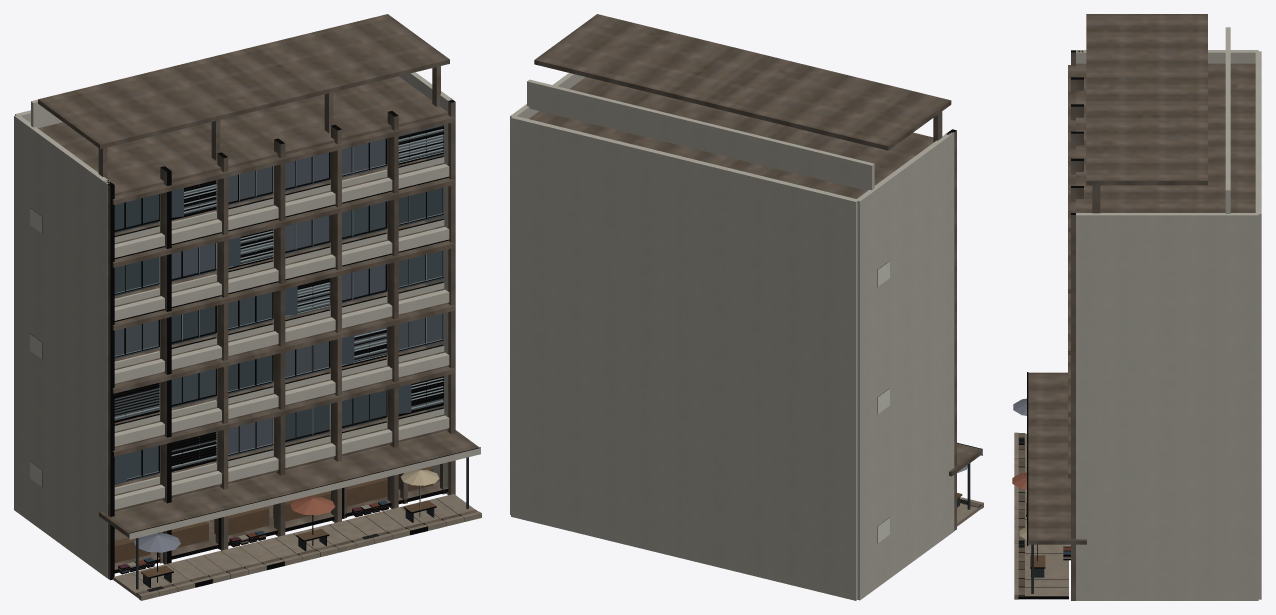
File: lagos_broadstreet_lod0.glb
3 renders of one model, left to right at view 1: azimuth 30°, elevation 25°; view 2: azimuth 150°, elevation 25°; view 3: azimuth 270°, elevation 25°, orthographic. The views are drawn at different scales.
Parts seen in each view (by area): view 1: Lagos_BroadStreet_LOD0; view 2: Lagos_BroadStreet_LOD0; view 3: Lagos_BroadStreet_LOD0.
Part boxes in pixels (x1,y1,x2,y2): Lagos_BroadStreet_LOD0: (14,14,481,600); Lagos_BroadStreet_LOD0: (510,14,983,600); Lagos_BroadStreet_LOD0: (1012,14,1261,600).
Bounding box in the file's own units: 19.6 × 22.92 × 12.3.
1 material, 1 textured.
